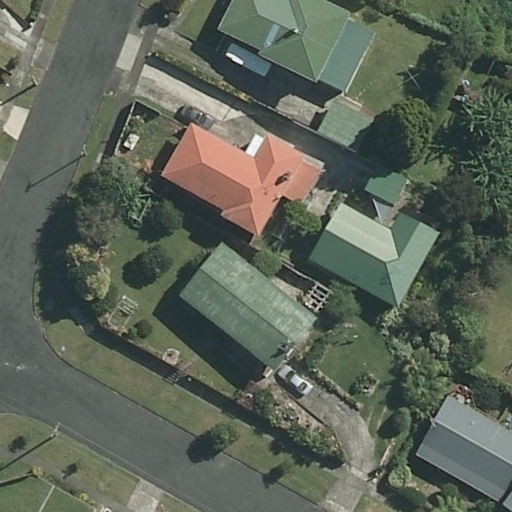DT: (45, 420, 61, 441), (79, 142, 89, 159), (28, 76, 40, 90)
